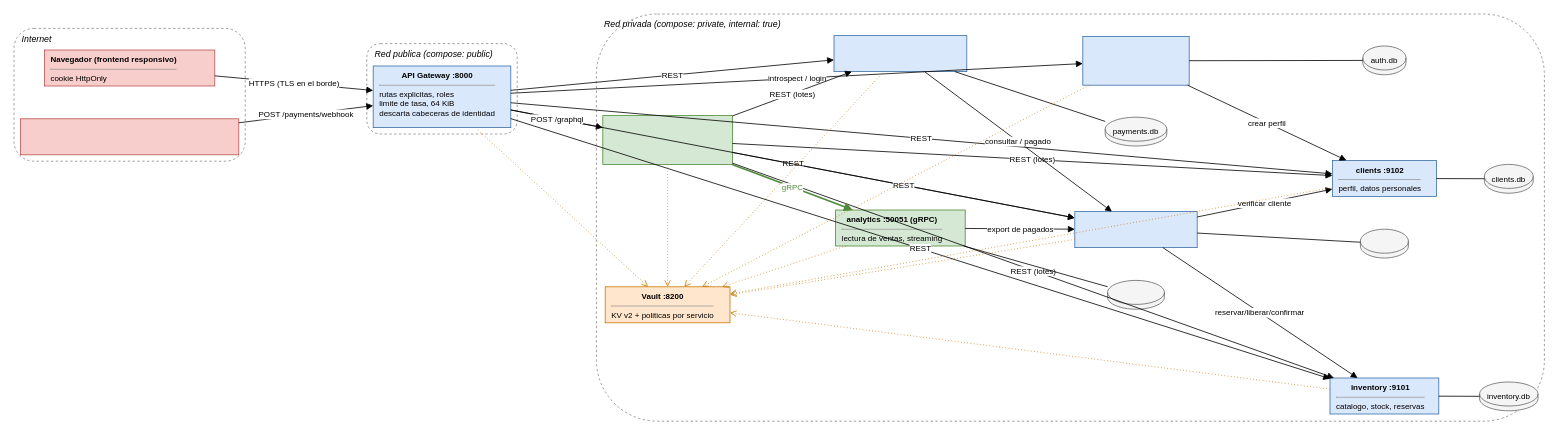
Some shapes in this 1558 by 435 pixel diagram are drawn without their labels. The shapes that lost their labels are listed below. From the top down, each one's centre as x and y in pixels, then its label:
the point at 900,53: payments :9104 pagos, webhook, idempotencia
the point at 1135,60: Auth Service :8100 sesiones opacas (hash) scrypt + sal
the point at 129,136: Proveedor de pagos (adaptador de prueba) webhook firmado HMAC
the point at 667,139: GraphQL Gateway :9200 agregacion, batching profundidad/costo/paginas
the point at 1135,229: orders :9103 pedidos, estados, expiracion
the point at 1384,243: orders.db
the point at 1135,294: analytics.db
